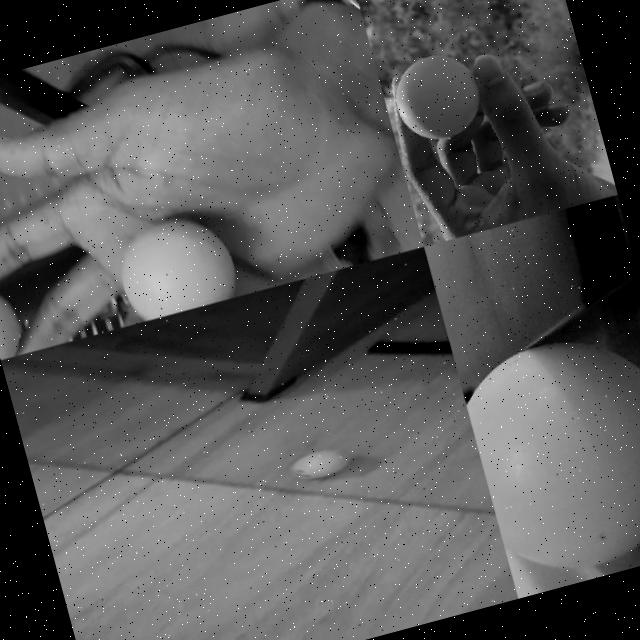ping-pong-ball: (454, 313, 640, 588), (109, 208, 242, 324), (382, 47, 487, 148), (286, 442, 355, 483), (0, 281, 23, 359)
